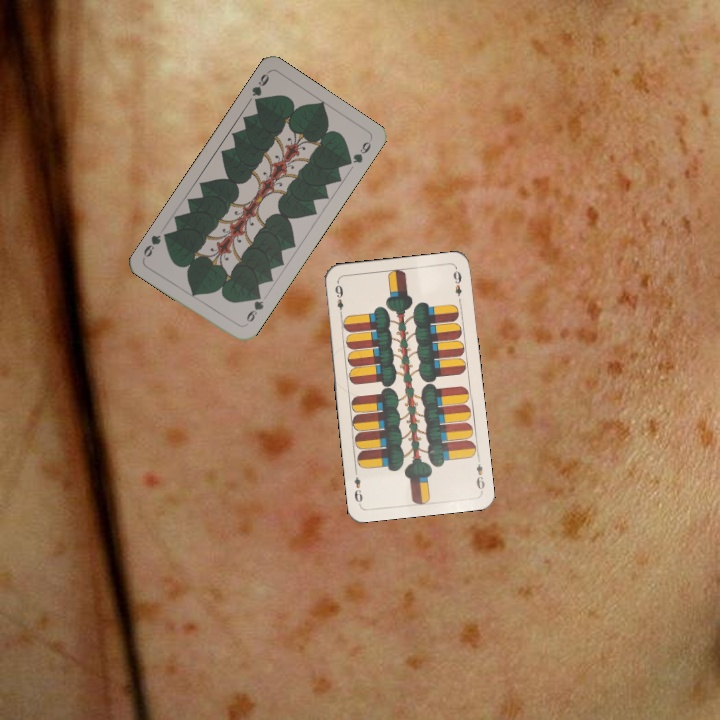E9: (331, 278, 346, 319), (472, 453, 487, 494)
G9: (247, 68, 272, 108), (240, 290, 266, 328)
